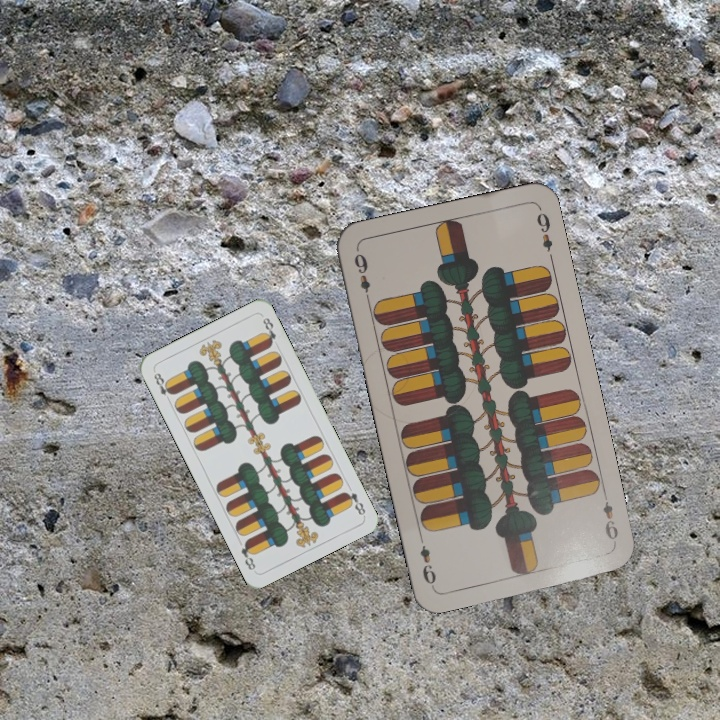E8: (150, 369, 176, 405), (339, 487, 368, 518)
E9: (350, 249, 373, 305), (598, 488, 621, 543)
